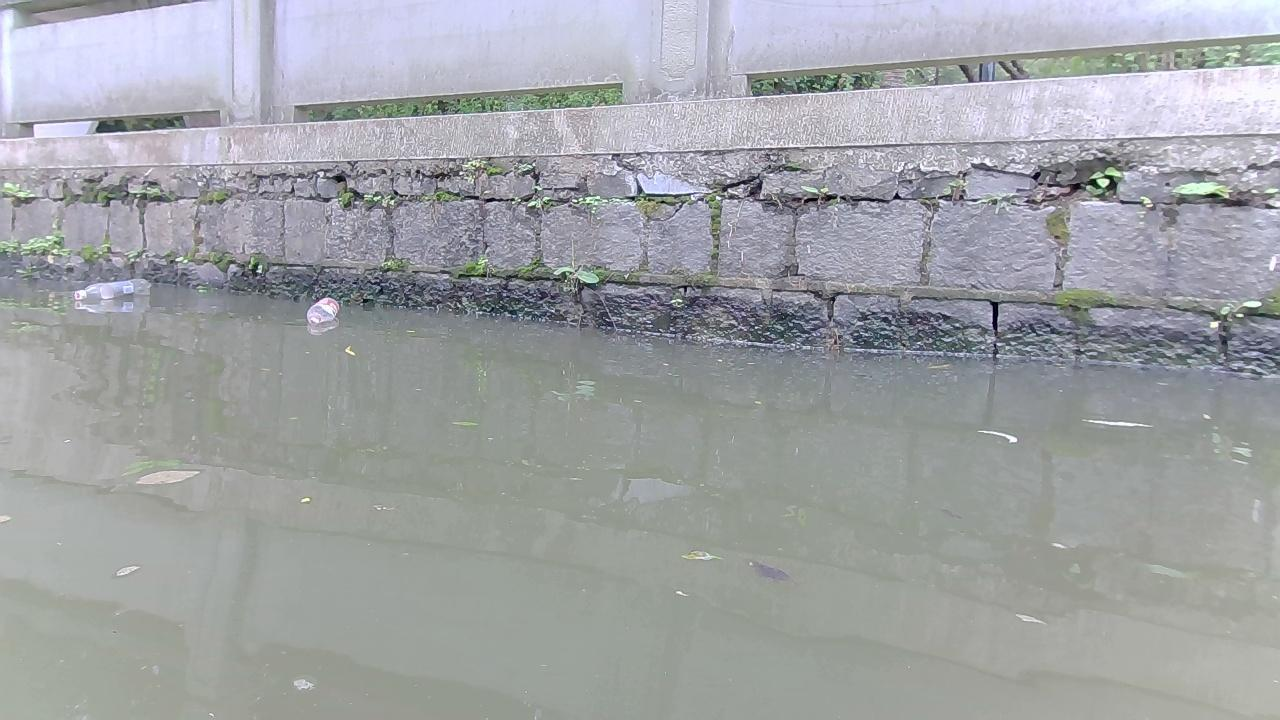bottle: (73, 277, 151, 299), (305, 296, 339, 325)
